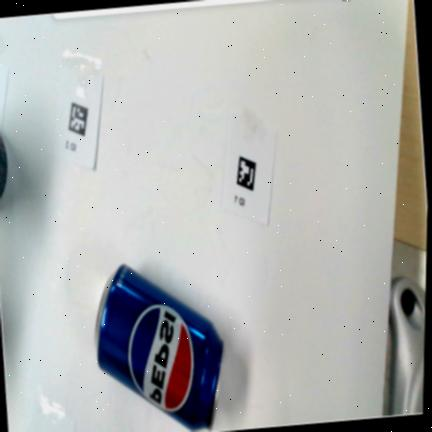can_pepsi: (96, 264, 223, 429)
